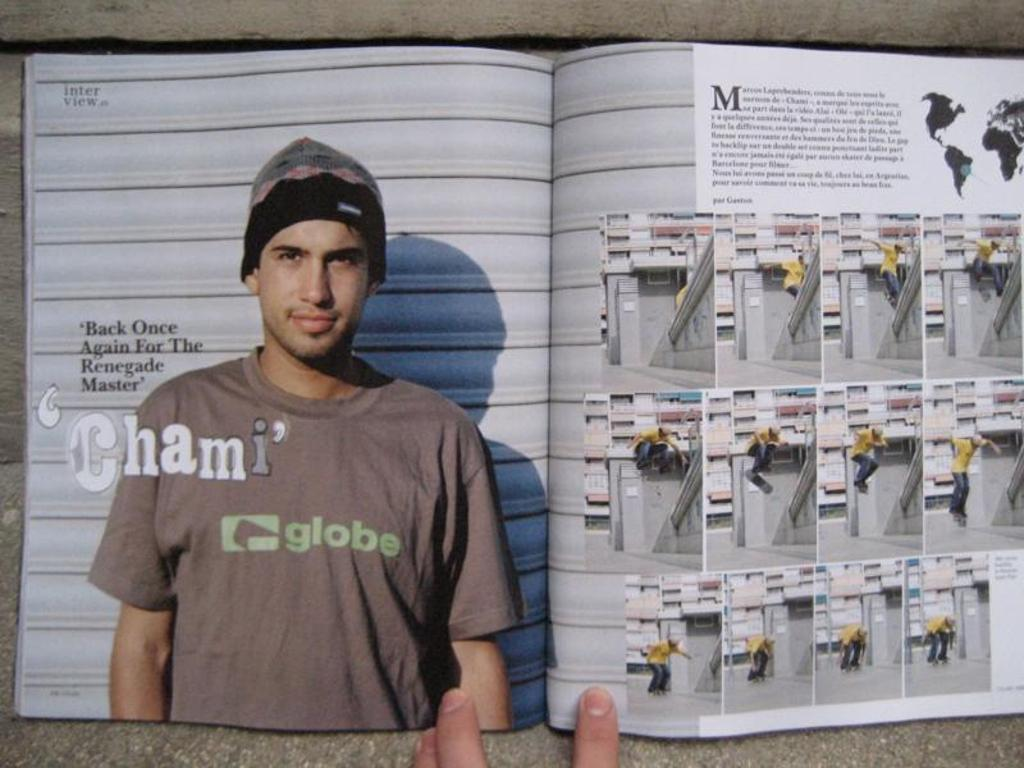face: (268, 210, 366, 354)
